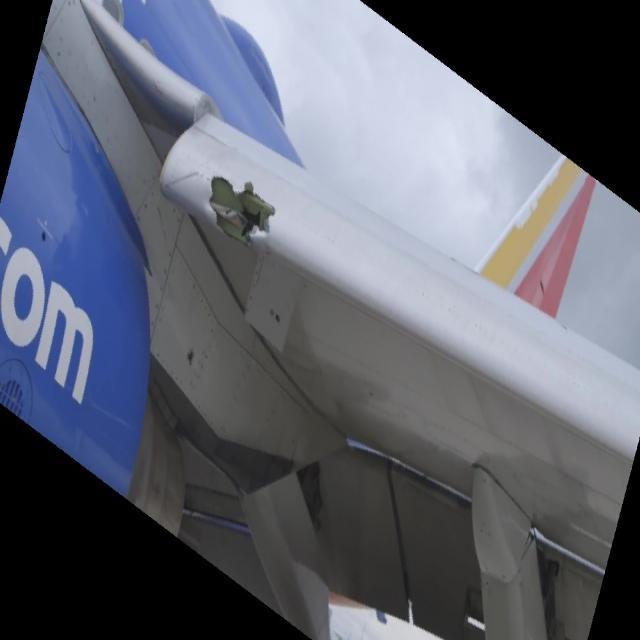crack: (210, 180, 277, 246)
